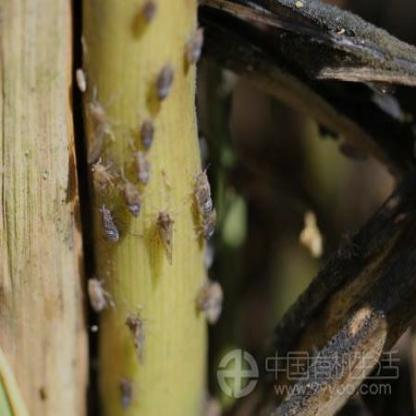brown-planthopper: (153, 209, 175, 264), (196, 280, 224, 322), (192, 170, 214, 220), (127, 312, 146, 366), (96, 204, 118, 242), (90, 160, 112, 198), (186, 23, 204, 65), (121, 184, 143, 218), (155, 61, 174, 99), (86, 278, 107, 310), (136, 154, 151, 188), (139, 117, 155, 148), (119, 376, 134, 406), (142, 0, 158, 22)
